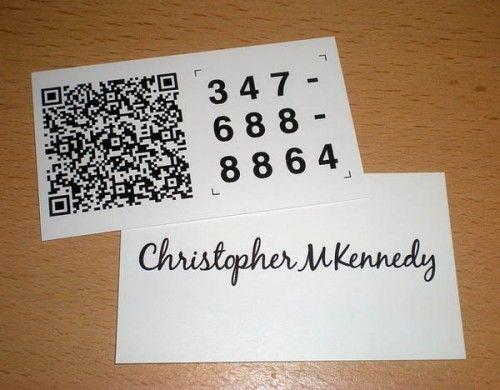Finder pattern: (45, 192, 74, 218), (155, 70, 180, 94), (39, 83, 65, 106)
